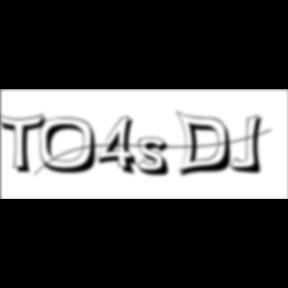4: (97, 115, 144, 179)
D: (176, 110, 238, 180)
J: (230, 114, 268, 176)
O: (39, 117, 104, 176)
T: (0, 112, 52, 176)
s: (138, 137, 176, 179)
